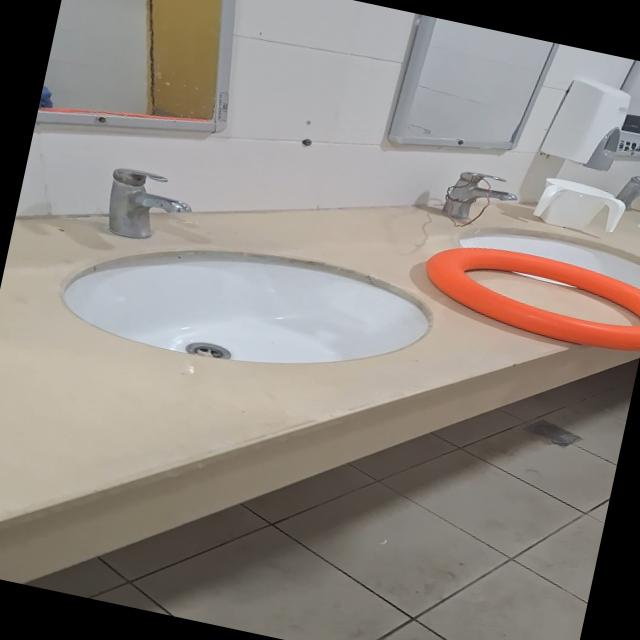note: (413, 231, 640, 358)
